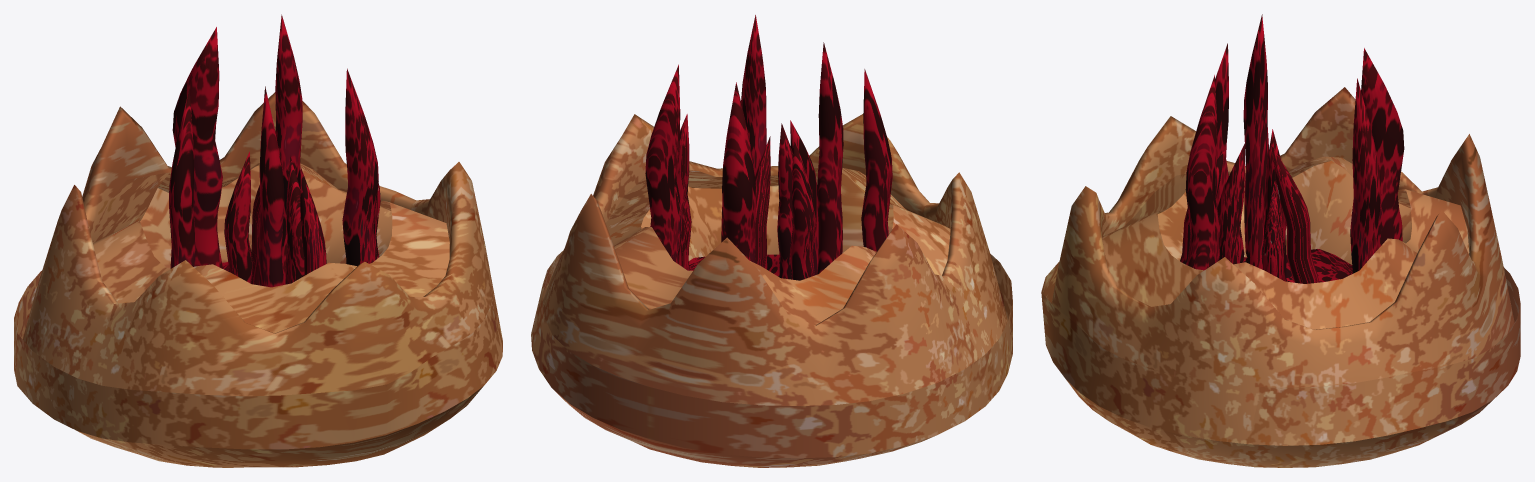
Rendered from Middle_mouthPart.fbx.
3 views of the same model, side by side, from view 1: azimuth 30°, elevation 25°; view 2: azimuth 150°, elevation 25°; view 3: azimuth 270°, elevation 25° (orthographic).
Parts seen in each view (by area): view 1: pCylinder83; view 2: pCylinder83; view 3: pCylinder83.
Boxes of the visible parts, bbox=[...] form: pCylinder83: bbox=[14, 14, 502, 467]; pCylinder83: bbox=[531, 15, 1012, 467]; pCylinder83: bbox=[1041, 14, 1520, 467].
Bounding box in the file's own units: 3.61 × 3.27 × 3.55.
